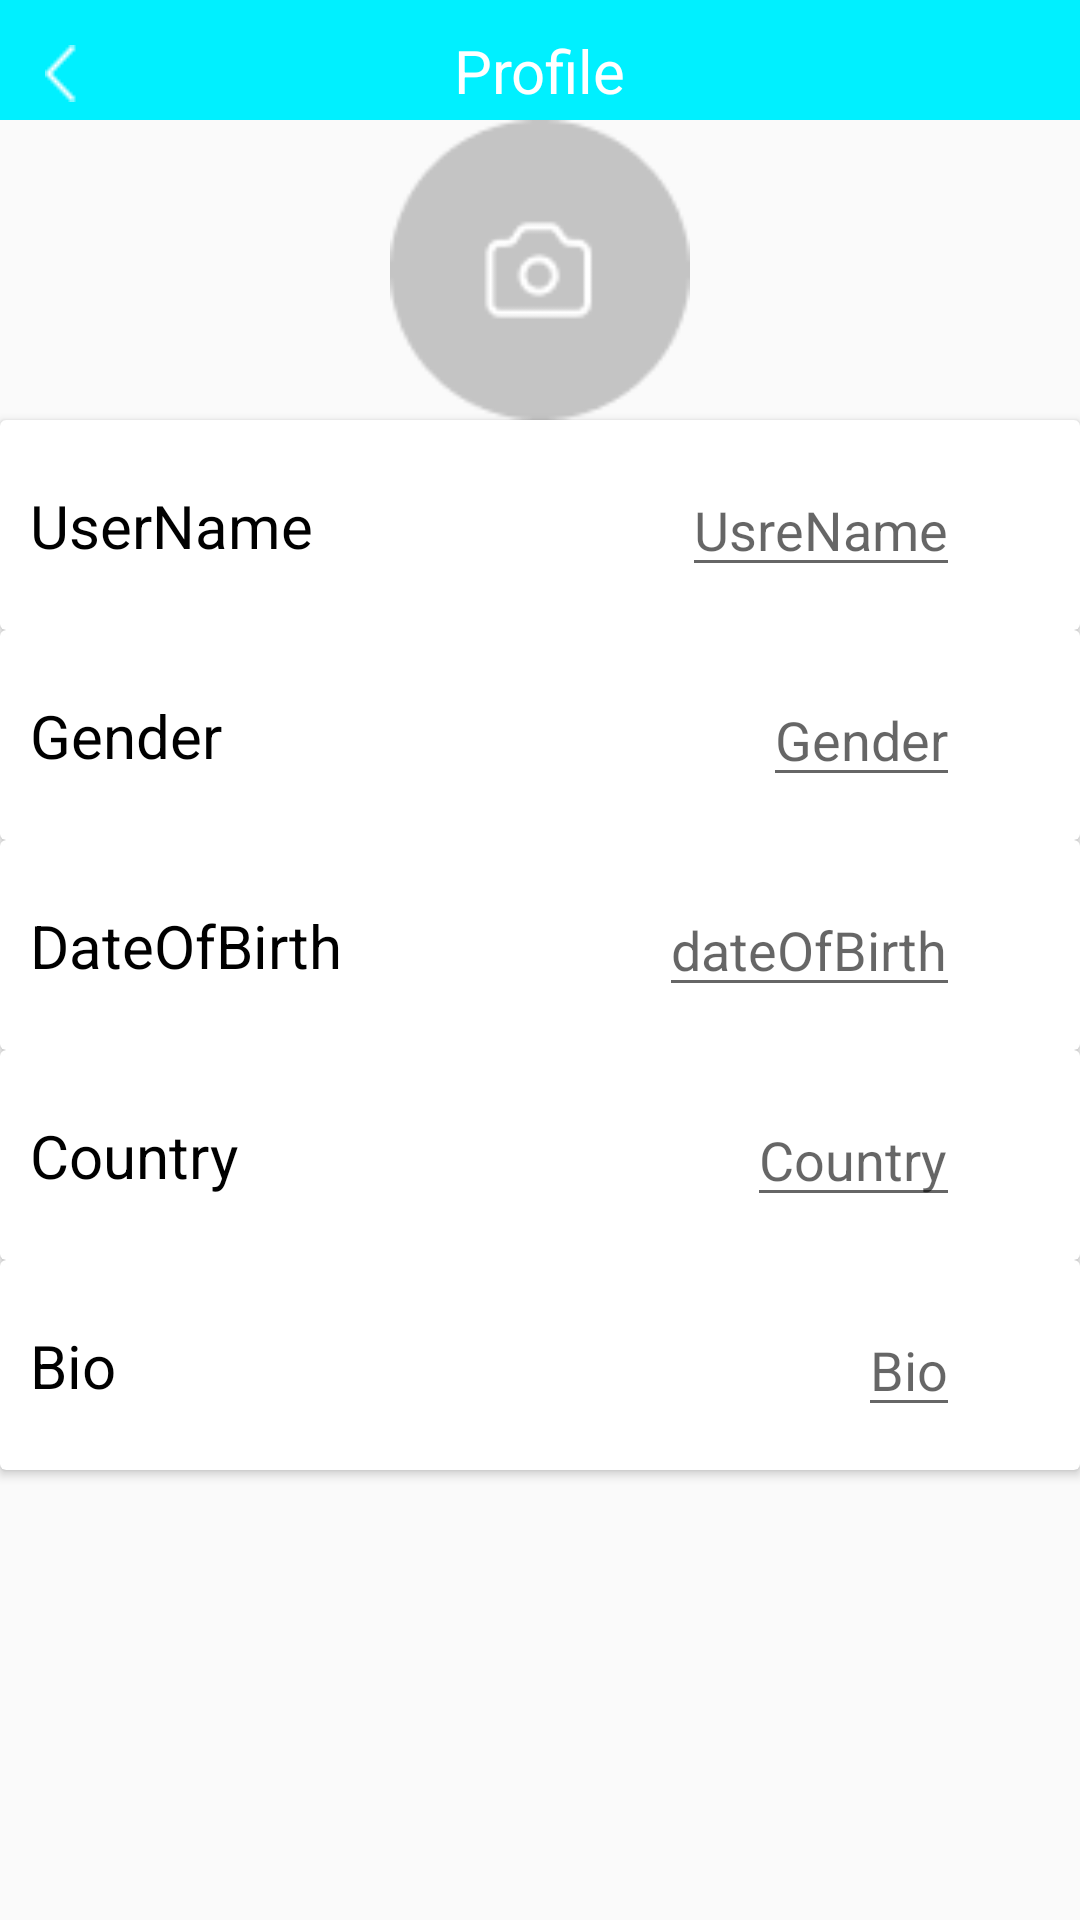

Point at icon controls on the screen. Image size 1080 x 1920, points as (x=x, y=y).
editpicture: (x=540, y=270)
tv back: (x=60, y=73)
